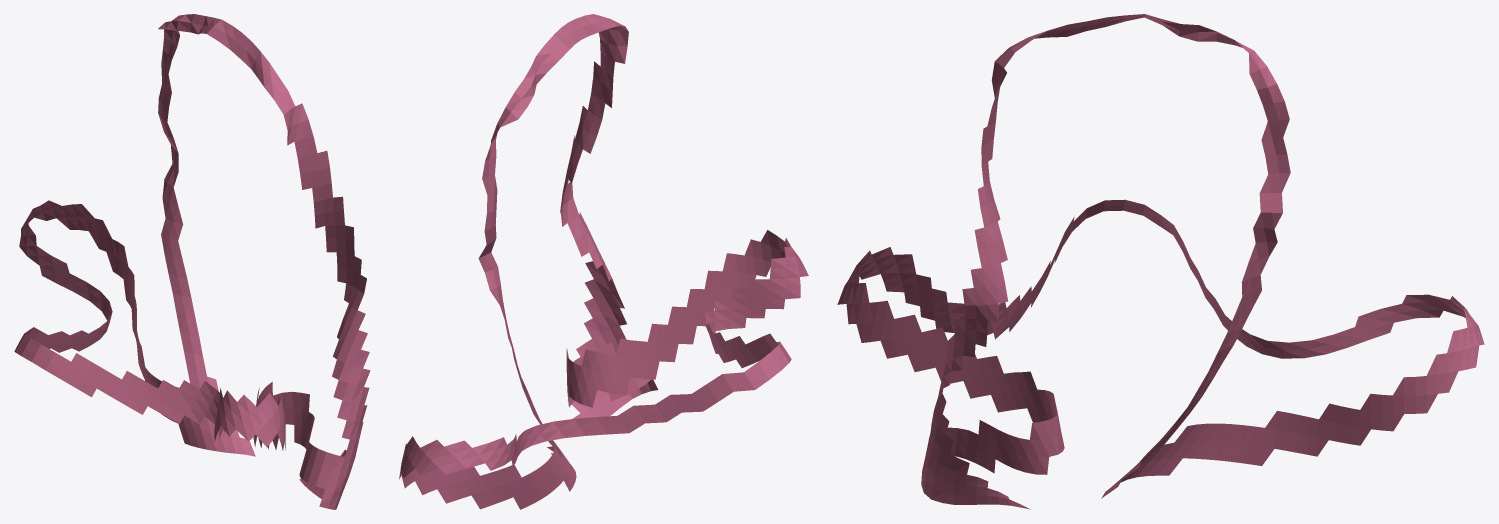
The model's file is selected_mesh4.obj.
The picture shows the model from 3 angles, left to right: view 1: azimuth 30°, elevation 25°; view 2: azimuth 150°, elevation 25°; view 3: azimuth 270°, elevation 25°; orthographic projection. The views are drawn at different scales.
Size of the model in its own units: 0.2701 by 0.4052 by 0.4941.
